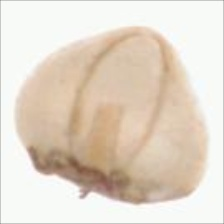L5: (65, 31, 167, 171), (25, 145, 149, 207), (112, 18, 183, 64)
L6: (11, 24, 212, 211)
